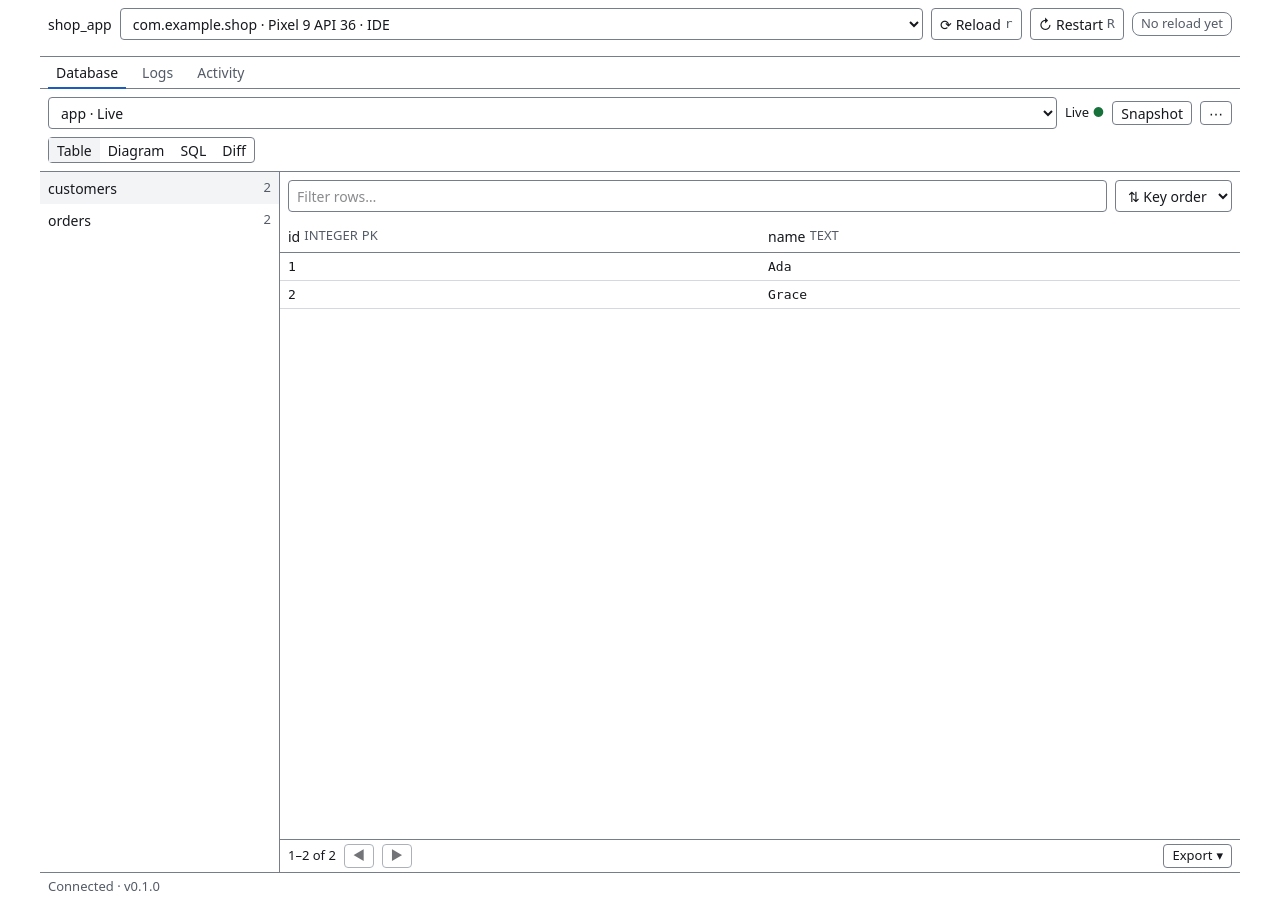
Saved queries (⋯ menu) › Empty: says how to save
expect the dropdown named "Database" is shown: met, box [48,97,1057,129]
Click the button named "More database options" at (1216, 113), box [1200,101,1232,125]
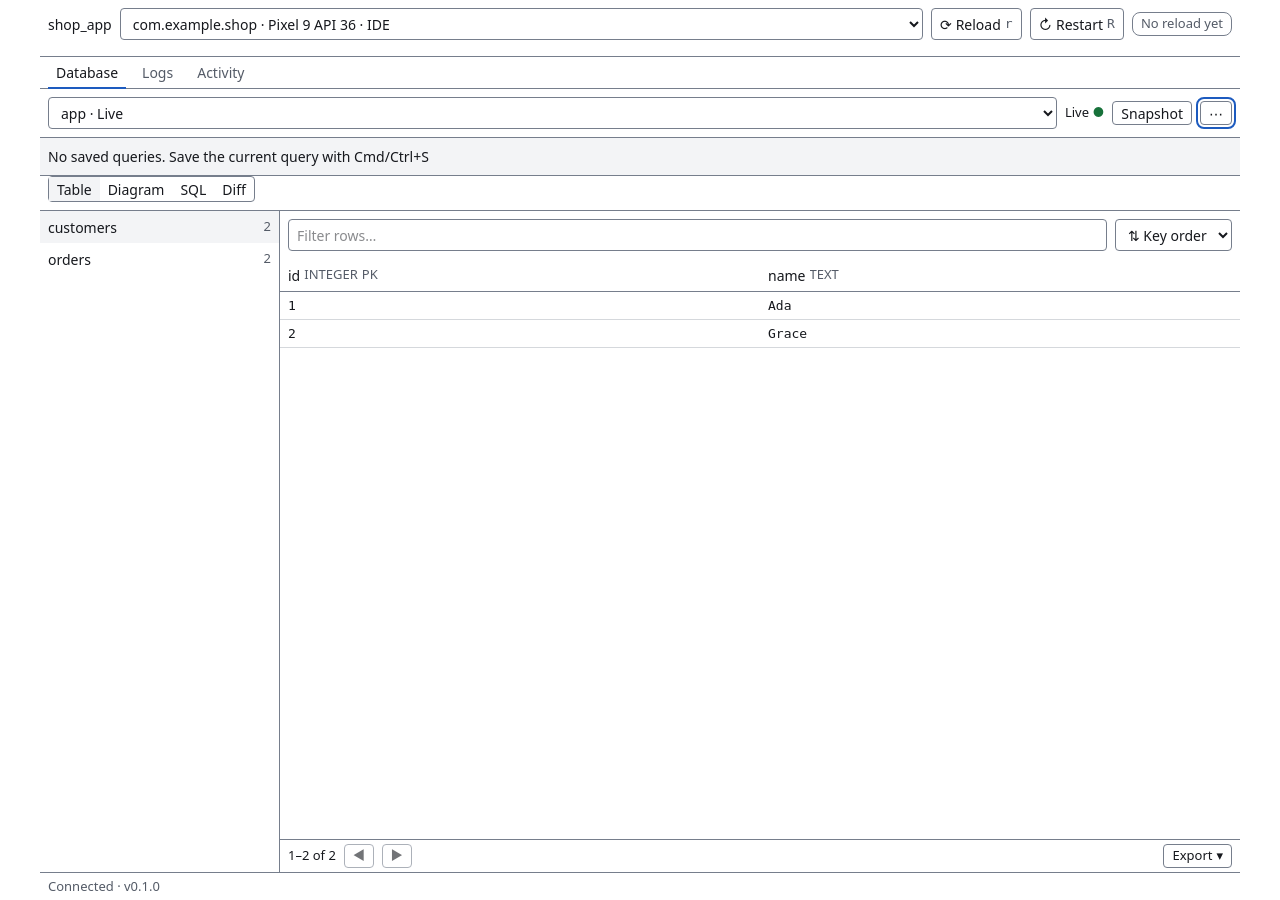
expect the text "No saved queries. Save the current query with Cmd/Ctrl+S" is shown: met, box [48,147,429,166]
